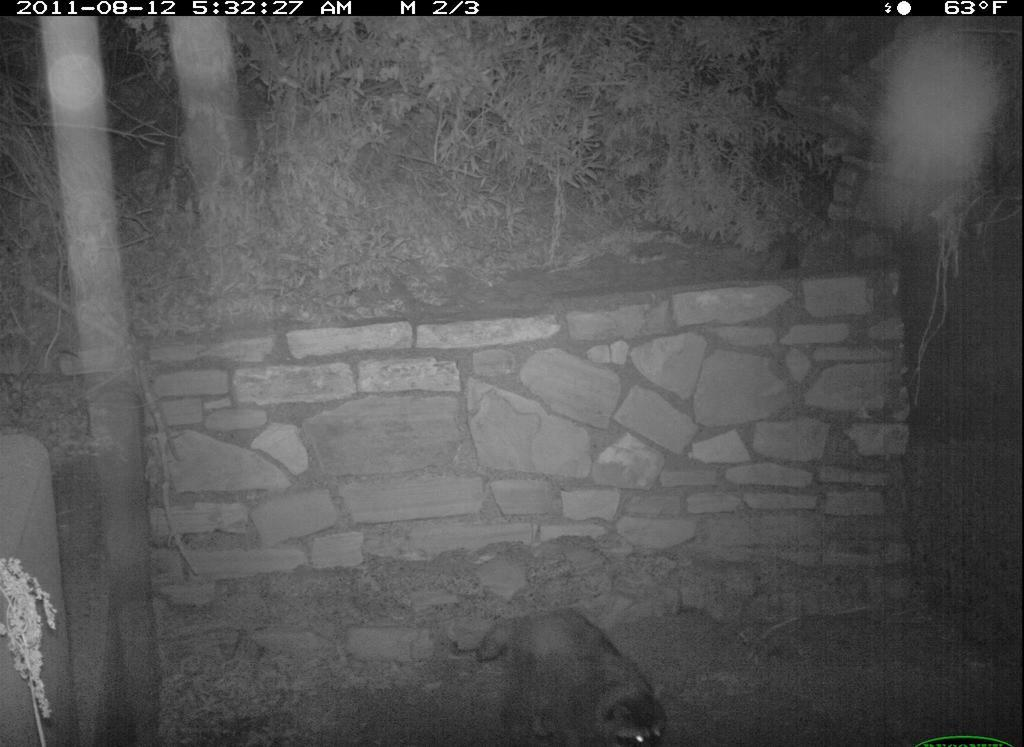raccoon: (466, 591, 684, 747)
